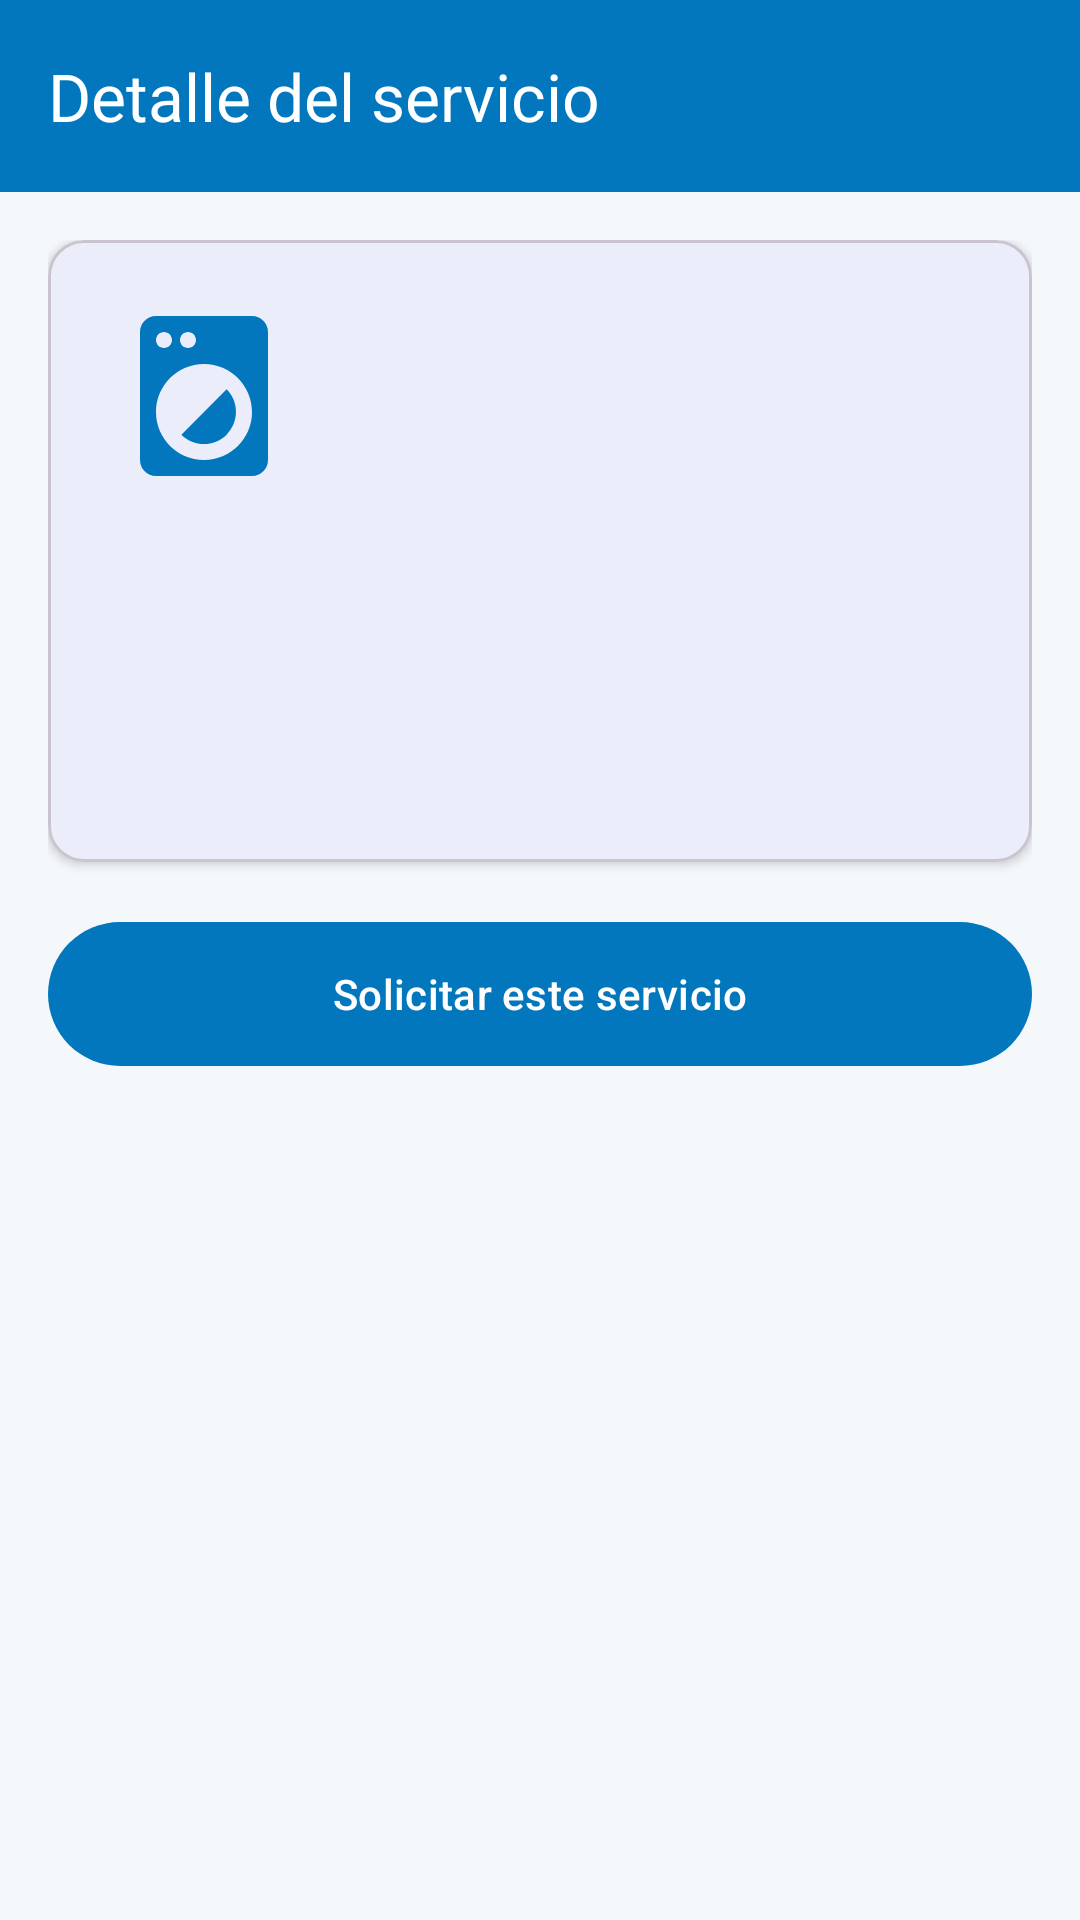

Icons on this 1080w x 1920h Android screen, each with its box as (x1, y1, x2, y2):
Servicio: (140, 316, 268, 476)
